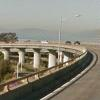Bridge: (3, 32, 84, 90)
